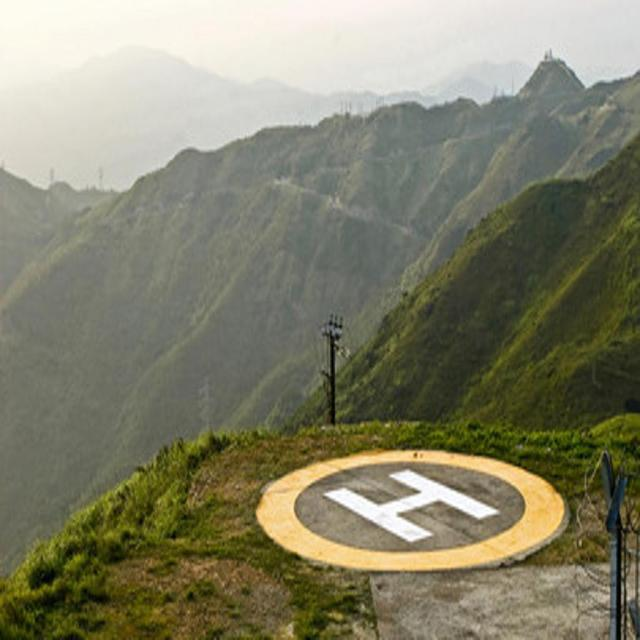helipad: (254, 448, 567, 573)
